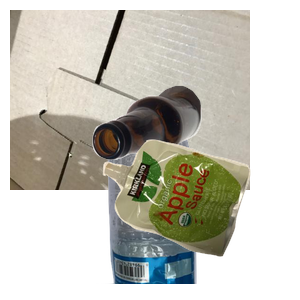cardboard: (10, 10, 250, 190)
glass: (90, 83, 300, 235)
plastic: (96, 120, 285, 300)
trash: (100, 137, 300, 300)
